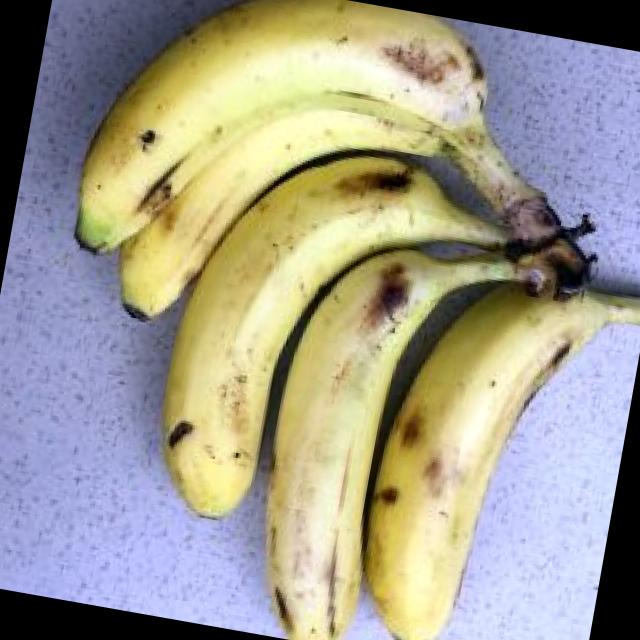banana: (154, 118, 573, 567)
